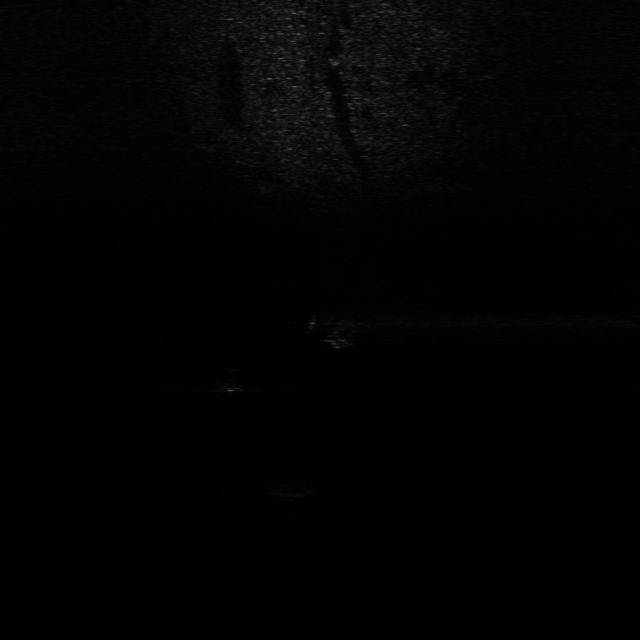ball: (212, 364, 253, 393)
circle cage: (260, 474, 322, 502)
human body: (297, 312, 372, 352)
